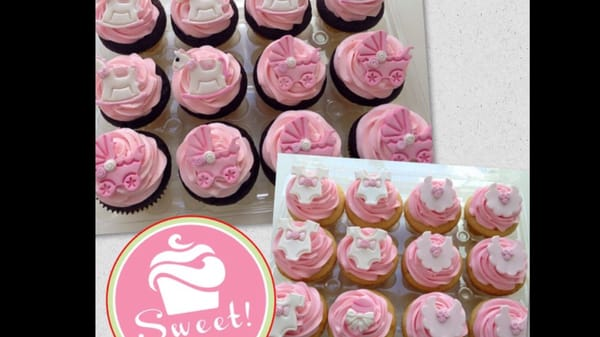curry: (92, 0, 536, 331)
sushi: (177, 122, 259, 202), (96, 128, 168, 210), (261, 109, 342, 181), (254, 35, 328, 109), (97, 54, 168, 128), (176, 45, 246, 118), (354, 104, 434, 163), (272, 218, 338, 286), (401, 230, 463, 294), (464, 235, 528, 297), (336, 227, 401, 288), (403, 176, 463, 237), (344, 173, 403, 232), (169, 0, 240, 49), (463, 182, 522, 240), (286, 174, 346, 231), (327, 288, 394, 336), (268, 281, 326, 336), (403, 292, 469, 336), (244, 0, 312, 40)
